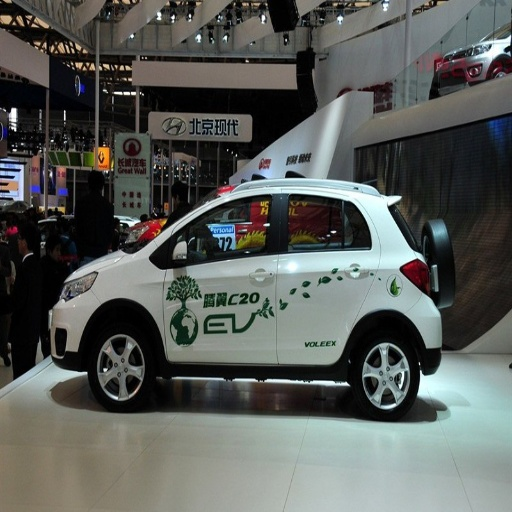back_glass: (185, 2, 244, 33)
back_left_door: (277, 185, 377, 362)
front_left_door: (162, 188, 277, 360)
